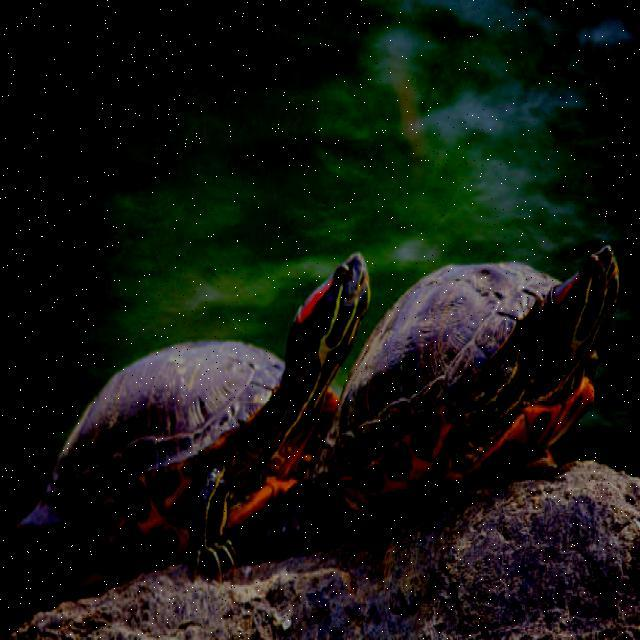tortoise: (50, 240, 368, 558), (376, 240, 630, 478)
